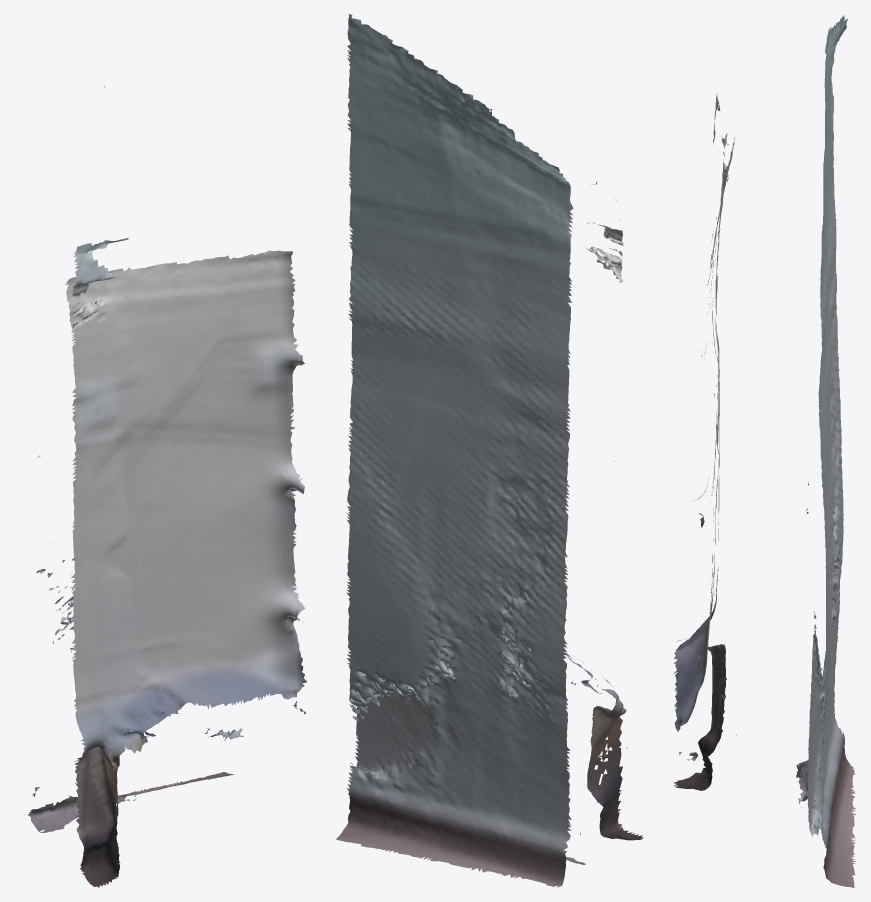
Rendered from apartment-full-36-b09d368d7b45.glb.
3 views of the same model, side by side, from view 1: azimuth 30°, elevation 25°; view 2: azimuth 150°, elevation 25°; view 3: azimuth 270°, elevation 25° (orthographic). The views are drawn at different scales.
Bounding box in the file's own units: 0.532 × 1.81 × 0.353.
